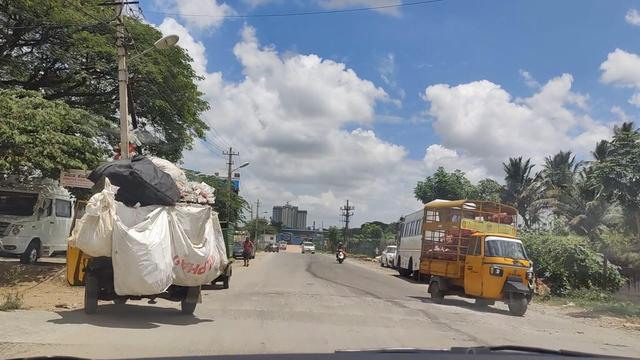HMV: (79, 158, 229, 329), (418, 201, 548, 320)
RoadDamages: (247, 287, 396, 319)
